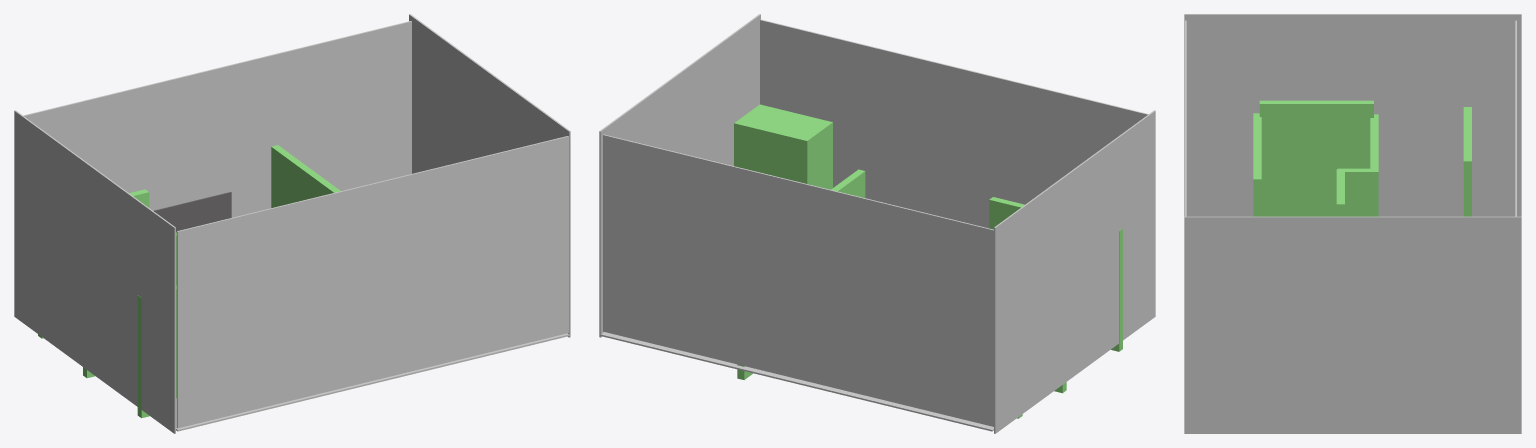
File: 1-3_Gimick3_oono.fbx
The picture shows the model from 3 angles, left to right: view 1: azimuth 30°, elevation 25°; view 2: azimuth 150°, elevation 25°; view 3: azimuth 270°, elevation 25°; orthographic projection. The views are drawn at different scales.
Visible parts, largest first — view 1: floor__3_, floor__4_, floor__2_, floor__1_, Cube__2_, Cube__9_, floor, Cube__1_; view 2: floor__4_, floor__3_, floor__2_, floor__1_, Cube__3_, floor, Cube__1_, Cube__2_; view 3: floor__1_, floor__2_, Cube__6_, Cube__7_, Cube__4_, Cube__1_, Cube__5_, Cube__8_, floor__3_, floor__4_.
Part boxes in pixels (x1,y1,x2,y2): floor__3_: (176, 136, 568, 428); floor__4_: (23, 21, 411, 217); floor__2_: (14, 110, 175, 433); floor__1_: (409, 14, 570, 337); Cube__2_: (271, 145, 340, 207); Cube__9_: (154, 192, 231, 232); floor: (176, 333, 569, 431); Cube__1_: (137, 285, 176, 418); floor__4_: (603, 134, 993, 426); floor__3_: (760, 19, 1148, 228); floor__2_: (994, 110, 1155, 433); floor__1_: (599, 14, 760, 337); Cube__3_: (734, 104, 832, 189); floor: (600, 332, 993, 431); Cube__1_: (989, 197, 1122, 351); Cube__2_: (737, 169, 865, 379); floor__1_: (1184, 216, 1521, 433); floor__2_: (1184, 14, 1521, 216); Cube__6_: (1259, 100, 1373, 216); Cube__7_: (1337, 168, 1378, 216); Cube__4_: (1463, 107, 1471, 216); Cube__1_: (1253, 113, 1261, 216); Cube__5_: (1370, 114, 1378, 168); Cube__8_: (1336, 169, 1344, 216); floor__3_: (1185, 20, 1186, 216); floor__4_: (1515, 20, 1516, 216).
Size of the model in its own units: 2518 by 1312 by 1763.
